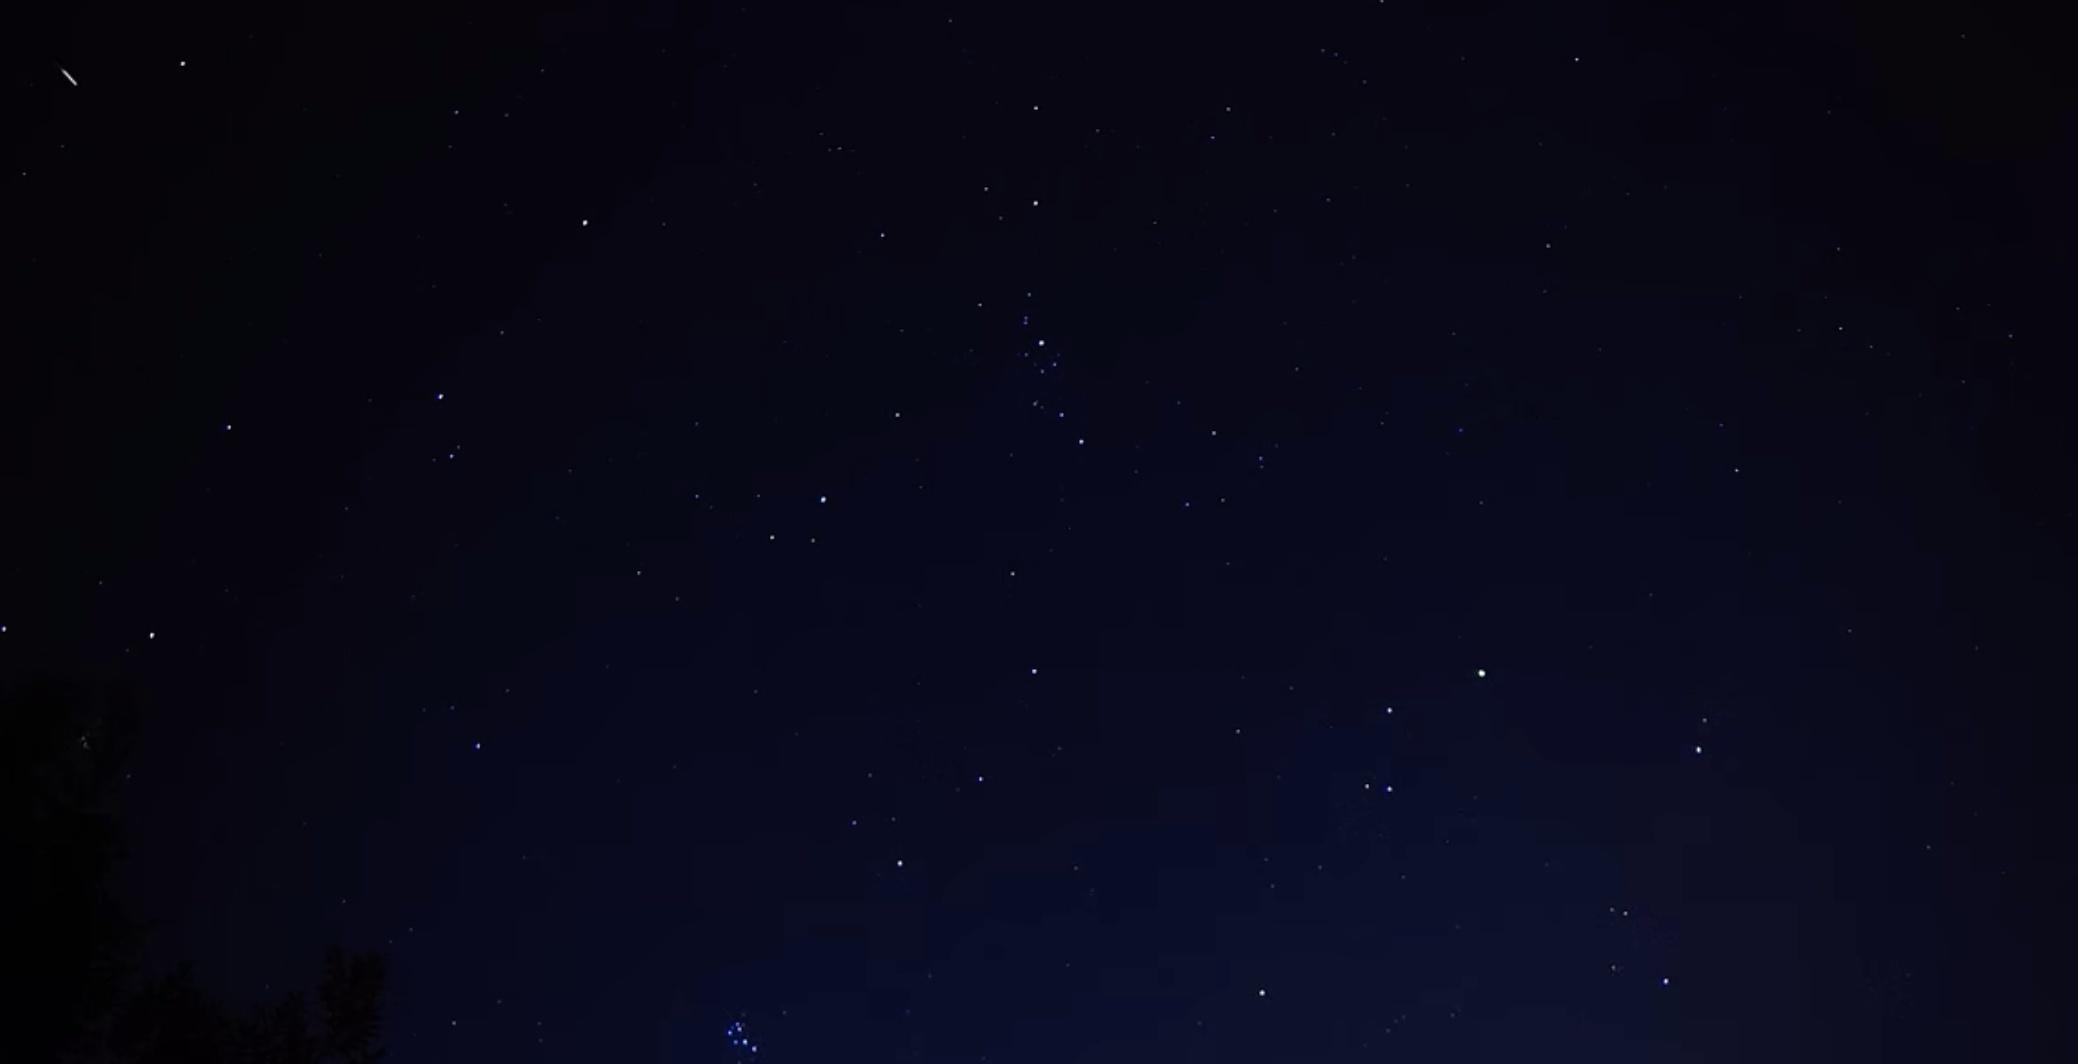meteorite: (28, 50, 113, 104)
